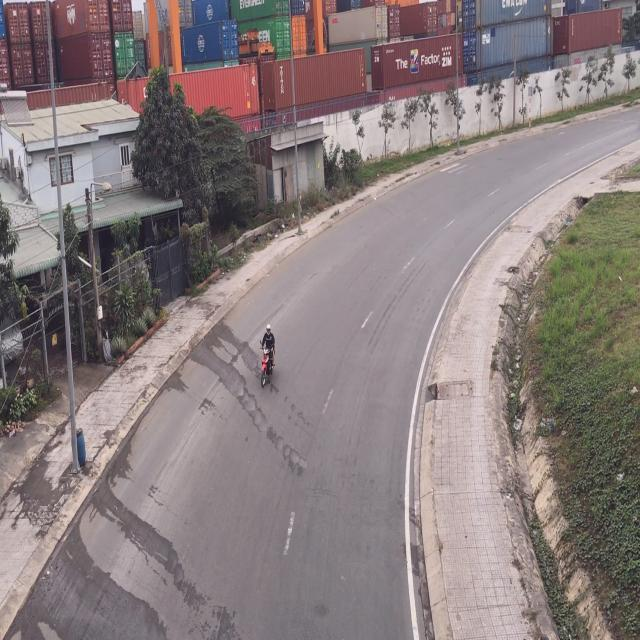motorbike: (257, 326, 277, 391)
